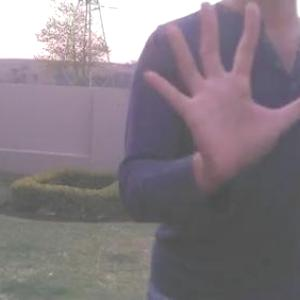follow_hand: (140, 0, 299, 179)
